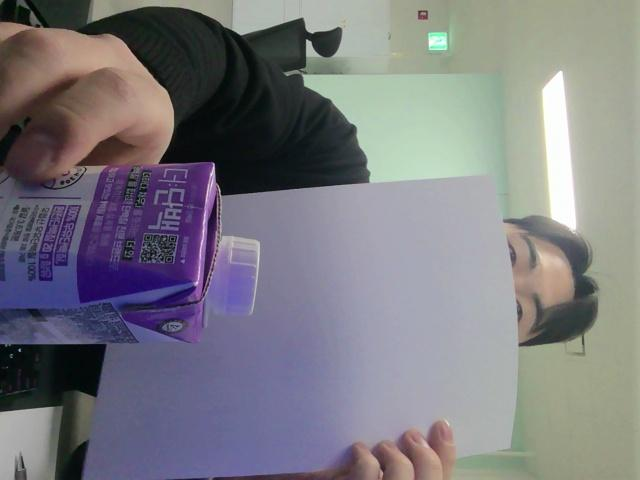milk: (0, 164, 256, 343)
